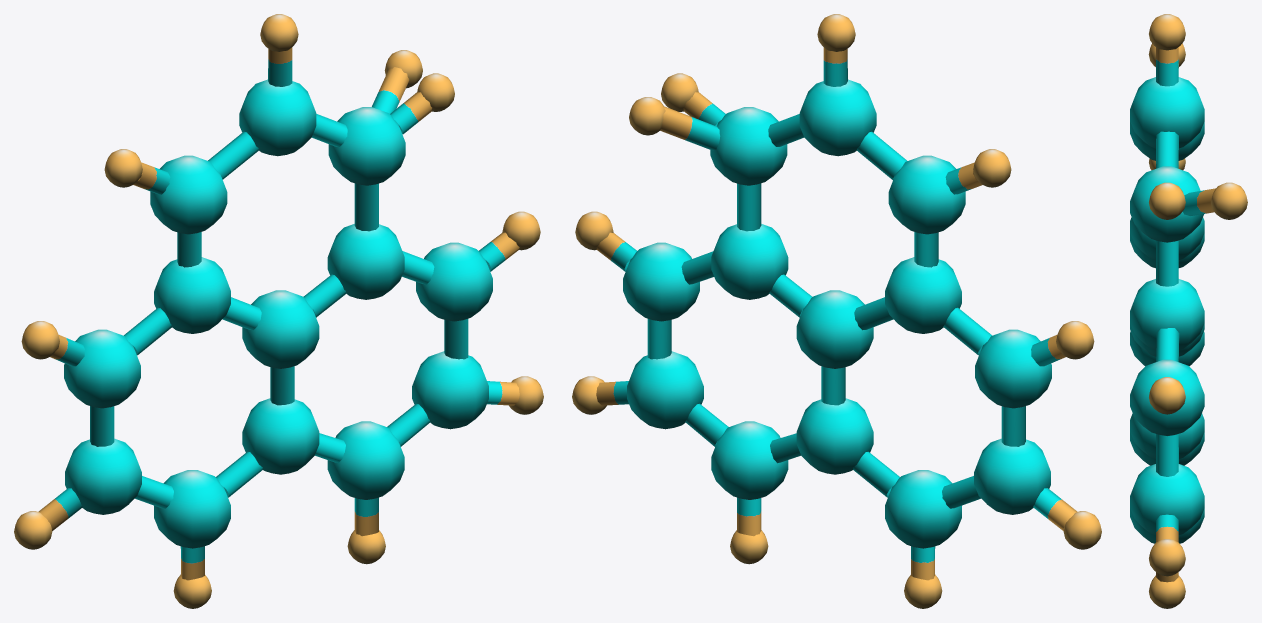
The model's file is Phenalene.dae.
The picture shows the model from 3 angles, left to right: view 1: azimuth 30°, elevation 25°; view 2: azimuth 150°, elevation 25°; view 3: azimuth 270°, elevation 25°; orthographic projection. The views are drawn at different scales.
Visible parts, largest first — view 1: polySurface1; view 2: polySurface1; view 3: polySurface1.
Boxes of the visible parts, box(x1,y1,x2,y2) form: polySurface1: box(14, 14, 543, 608); polySurface1: box(572, 14, 1101, 608); polySurface1: box(1130, 14, 1247, 608).
Size of the model in its own units: 5.52 by 5.74 by 1.11.
1 material, 1 textured.
